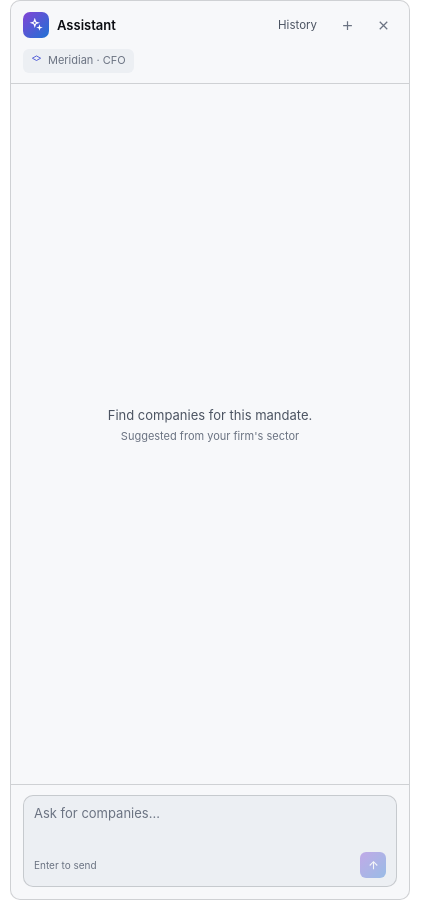
a chat with the assistant › starts a new chat, leaving the old one in the history
The width and height of the screenshot is (427, 900).
Type "Question t1" into the text box named "Ask the assistant".
click(210, 823); type("Question t1")  # box [34, 804, 386, 843]
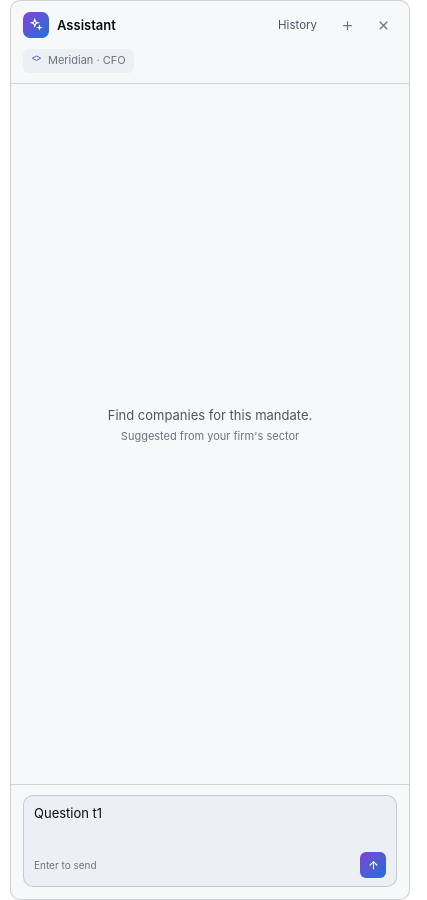
Click the button named "Send".
click(373, 865)  # box [360, 852, 386, 878]
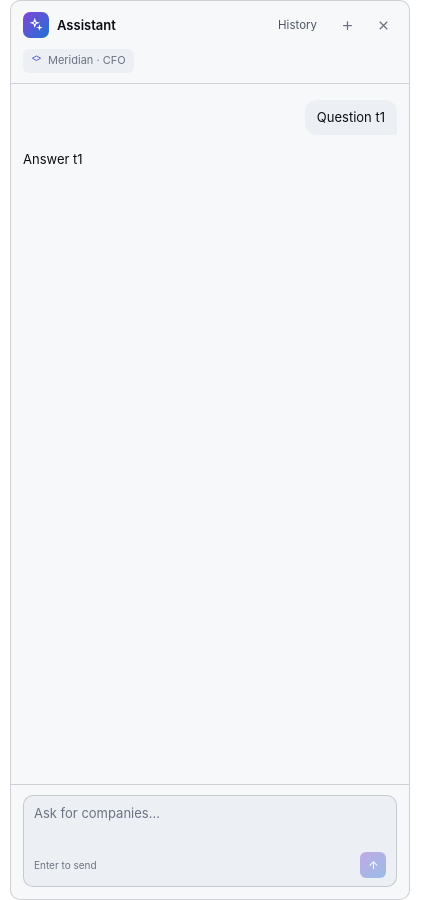
Expected: the text "Answer t1" is shown, [23, 151, 83, 167]
Click the button named "New chat".
click(347, 25)  # box [333, 11, 361, 39]
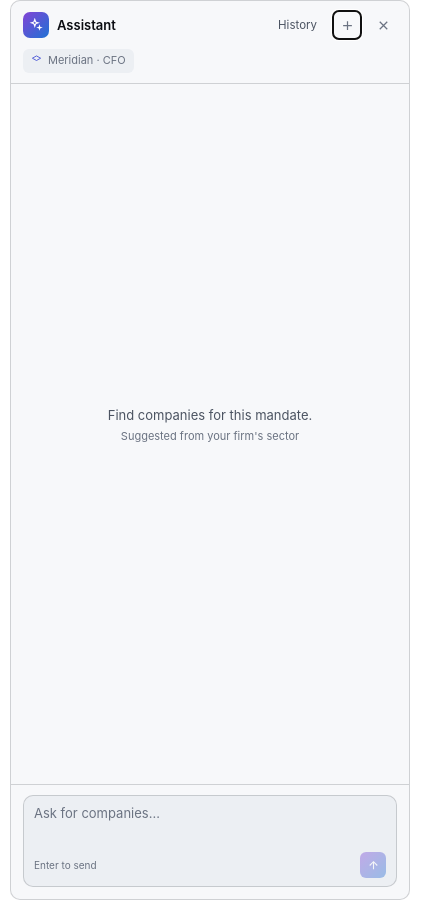
Expected: the text "Answer t1" is gone
Expected: the text "Find companies for this mandate." is shown, [108, 407, 312, 423]
